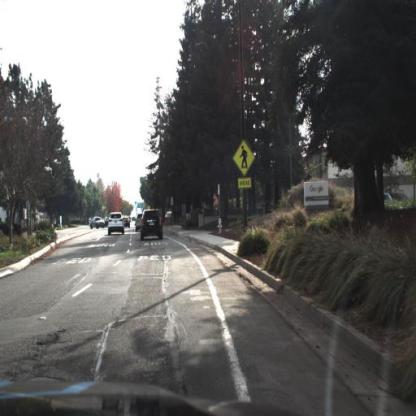car: (141, 209, 164, 243), (108, 211, 127, 238), (90, 217, 106, 231)
